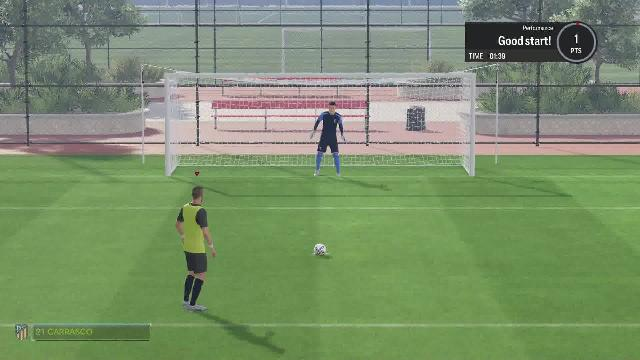circle: (313, 253, 329, 256)
football: (310, 243, 328, 257)
goal-bottom-left: (170, 128, 270, 176)
goal-bottom-right: (370, 128, 470, 176)
goal-middle-down: (270, 128, 370, 176)
goal-middle-up: (270, 78, 370, 126)
goal-top-left: (170, 78, 270, 126)
goal-top-right: (370, 78, 470, 126)
goalkeeper: (304, 99, 346, 179)
player: (172, 182, 220, 314)
